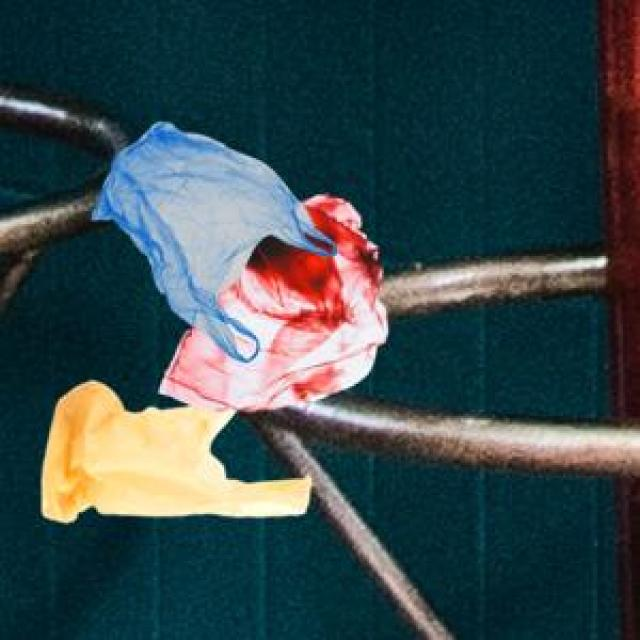plastic: (18, 96, 481, 558)
